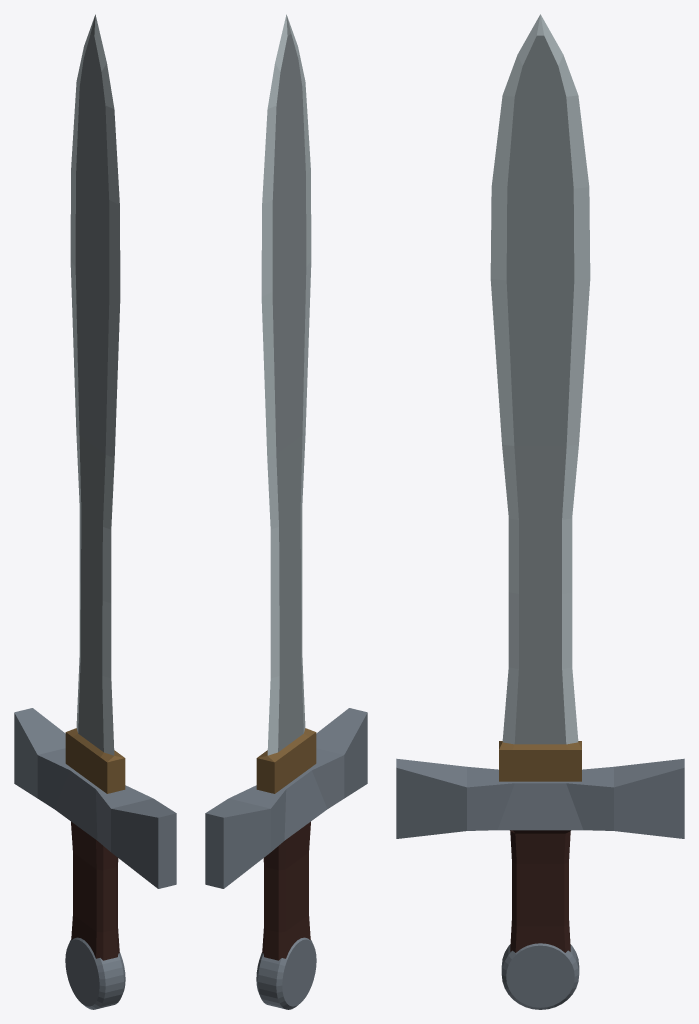
The model's file is sword.fbx.
3 views of the same model, side by side, from view 1: azimuth 30°, elevation 25°; view 2: azimuth 150°, elevation 25°; view 3: azimuth 270°, elevation 25° (orthographic).
Parts seen in each view (by area): view 1: Cube; view 2: Cube; view 3: Cube.
Part boxes in pixels (left/top/right/bottom): Cube: left=14, top=14, right=176, bottom=1009; Cube: left=205, top=14, right=367, bottom=1009; Cube: left=396, top=14, right=684, bottom=1009.
Size of the model in its own units: 5.15 by 115 by 30.4.
